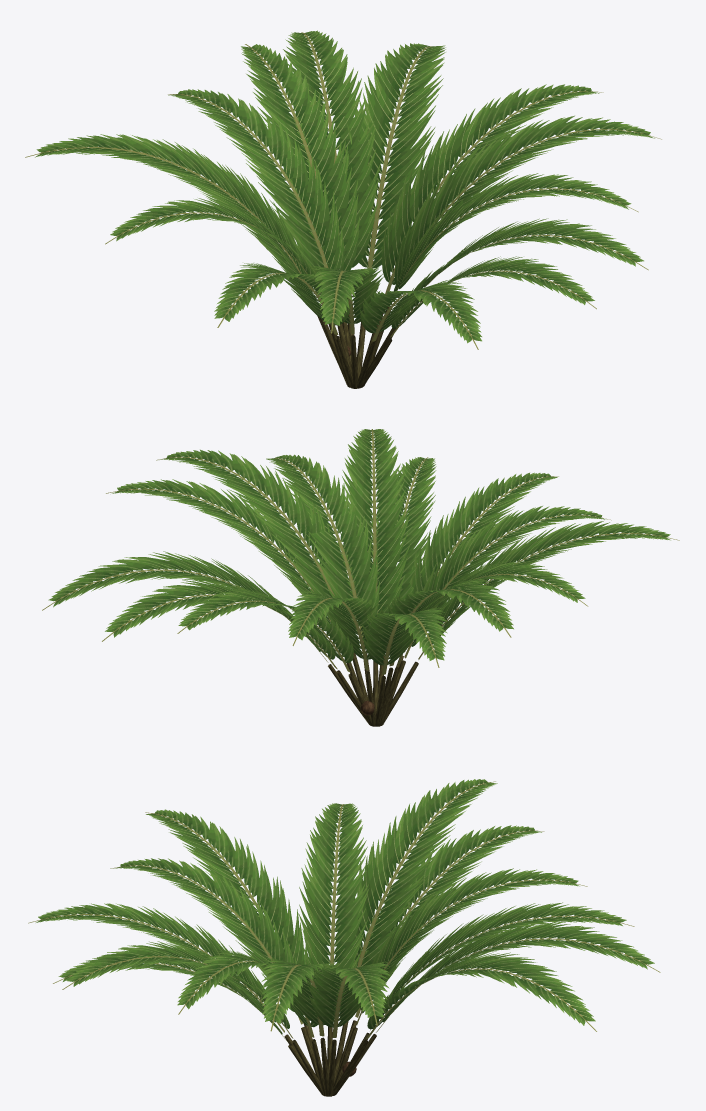
File: golpata_b.glb
The picture shows the model from 3 angles, top to bottom: view 1: azimuth 30°, elevation 25°; view 2: azimuth 150°, elevation 25°; view 3: azimuth 270°, elevation 25°; orthographic projection. The views are drawn at different scales.
Visible parts, largest first — view 1: leaves, wood; view 2: leaves, wood; view 3: leaves, wood.
Part boxes in pixels (x1,y1,x2,y2): leaves: (25,30,661,349); wood: (317,298,395,388); leaves: (42,429,679,674); wood: (328,652,418,726); leaves: (28,779,660,1042); wood: (284,1020,376,1096).
Size of the model in its own units: 13.64 by 5.56 by 15.17.
2 materials, 2 textured.
